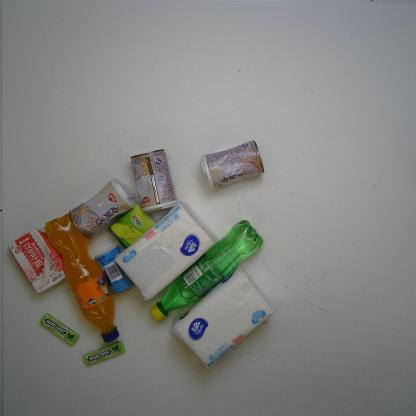Canned Food: (67, 176, 139, 242), (201, 135, 265, 194), (129, 146, 178, 214)
Drink: (146, 216, 264, 333), (45, 203, 119, 345)
Gum: (92, 250, 133, 294), (38, 312, 80, 347), (81, 339, 125, 371)
Milk: (5, 225, 64, 296)
Tissue: (111, 202, 223, 307), (172, 270, 278, 372), (111, 204, 155, 246)
